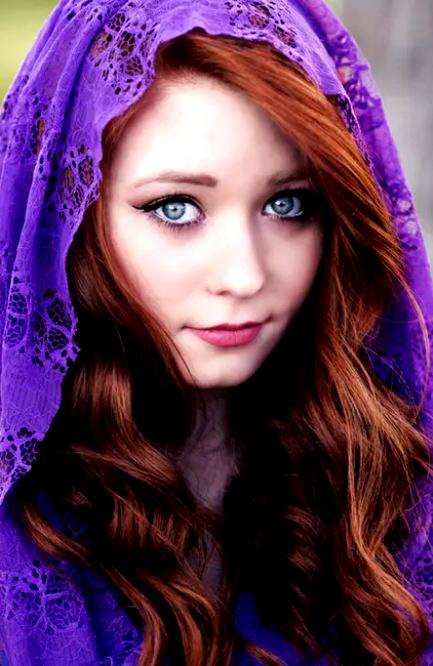face: (110, 75, 325, 389)
